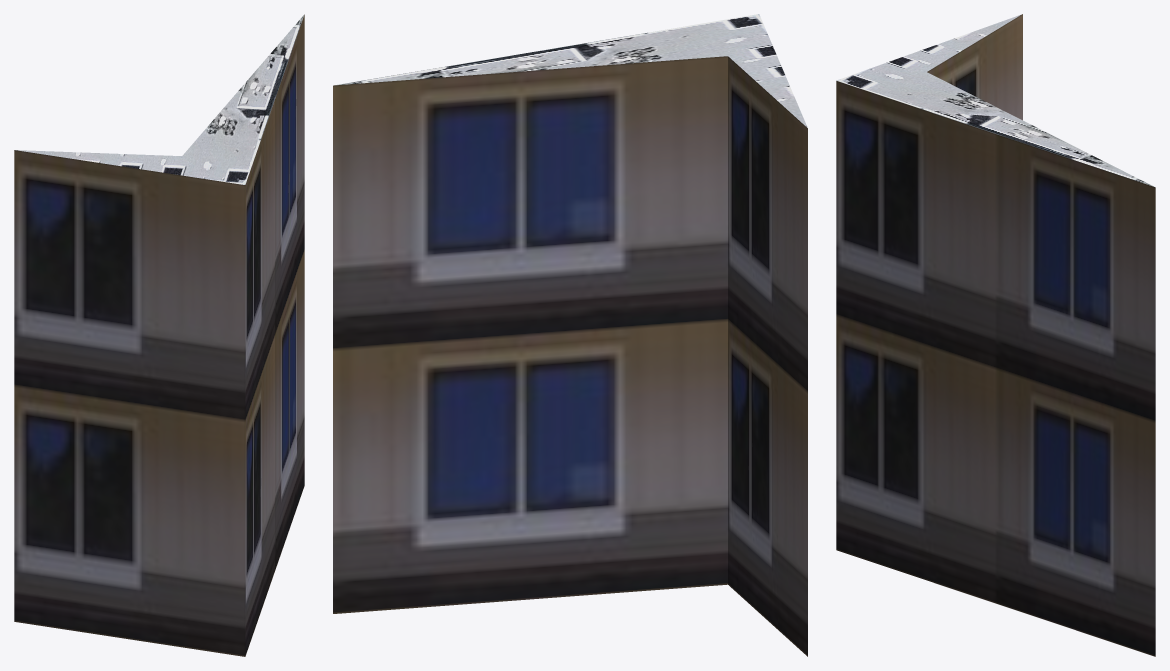
File: ResTex__3741.fbx
3 renders of one model, left to right at view 1: azimuth 30°, elevation 25°; view 2: azimuth 150°, elevation 25°; view 3: azimuth 270°, elevation 25°, orthographic. The views are drawn at different scales.
Parts seen in each view (by area): view 1: CityEngineMaterial_5_m, CityEngineMaterial_4_m; view 2: CityEngineMaterial_5_m, CityEngineMaterial_4_m; view 3: CityEngineMaterial_5_m, CityEngineMaterial_4_m.
Boxes of the visible parts, x1,y1,x2,y2 form: CityEngineMaterial_5_m: [14, 14, 304, 656]; CityEngineMaterial_4_m: [15, 15, 303, 184]; CityEngineMaterial_5_m: [333, 56, 807, 656]; CityEngineMaterial_4_m: [333, 14, 807, 127]; CityEngineMaterial_5_m: [836, 14, 1155, 656]; CityEngineMaterial_4_m: [836, 14, 1154, 186].
Size of the model in its own units: 4.75 by 6 by 3.7.
2 materials, 2 textured.
